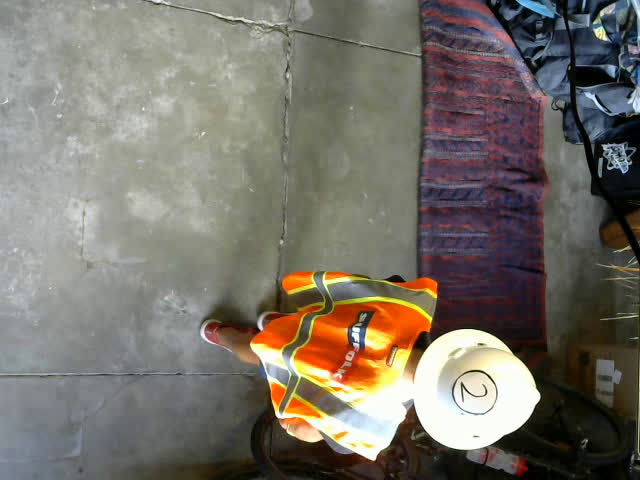two: (452, 369, 500, 416)
